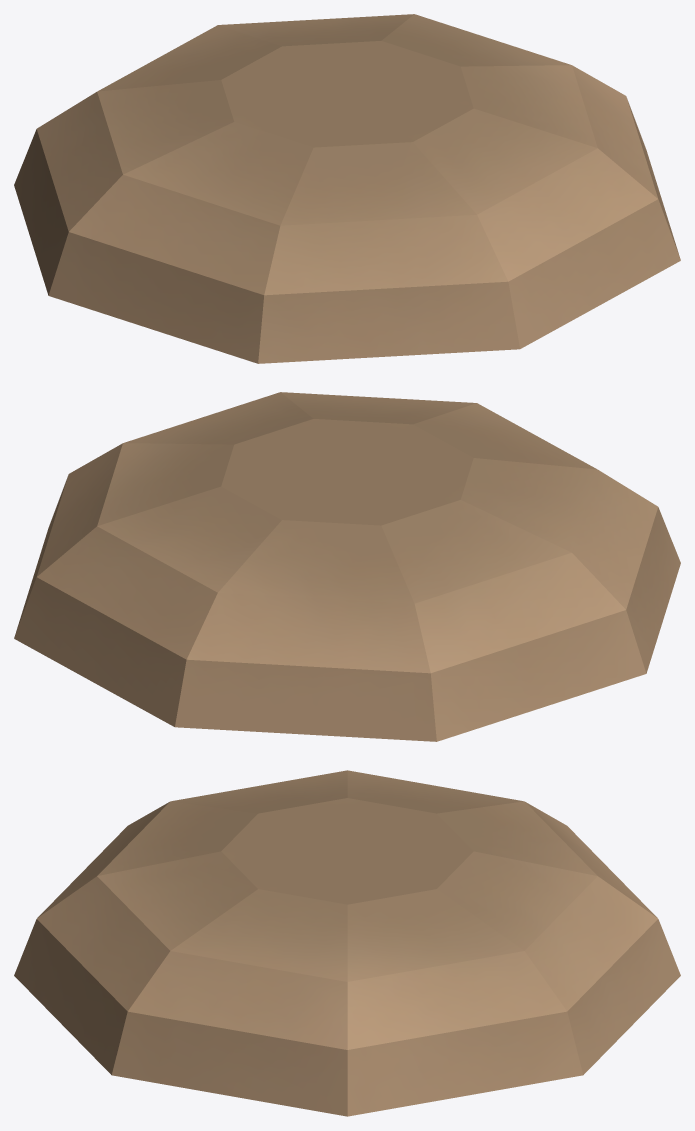
Rendered from ING_burgerBun_TopV01.fbx.
3 renders of one model, top to bottom at view 1: azimuth 30°, elevation 25°; view 2: azimuth 150°, elevation 25°; view 3: azimuth 270°, elevation 25°, orthographic. The views are drawn at different scales.
Visible parts, largest first — view 1: bun_top; view 2: bun_top; view 3: bun_top.
Part boxes in pixels (box(x1,y1,x2,y2)): bun_top: box(14, 14, 680, 363); bun_top: box(14, 392, 680, 741); bun_top: box(14, 770, 680, 1116).
Bounding box in the file's own units: 30.08 × 6.19 × 30.08.
